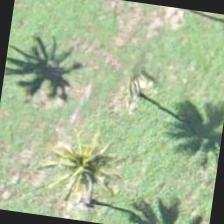Kelapa_Sawit: (35, 115, 137, 217)
